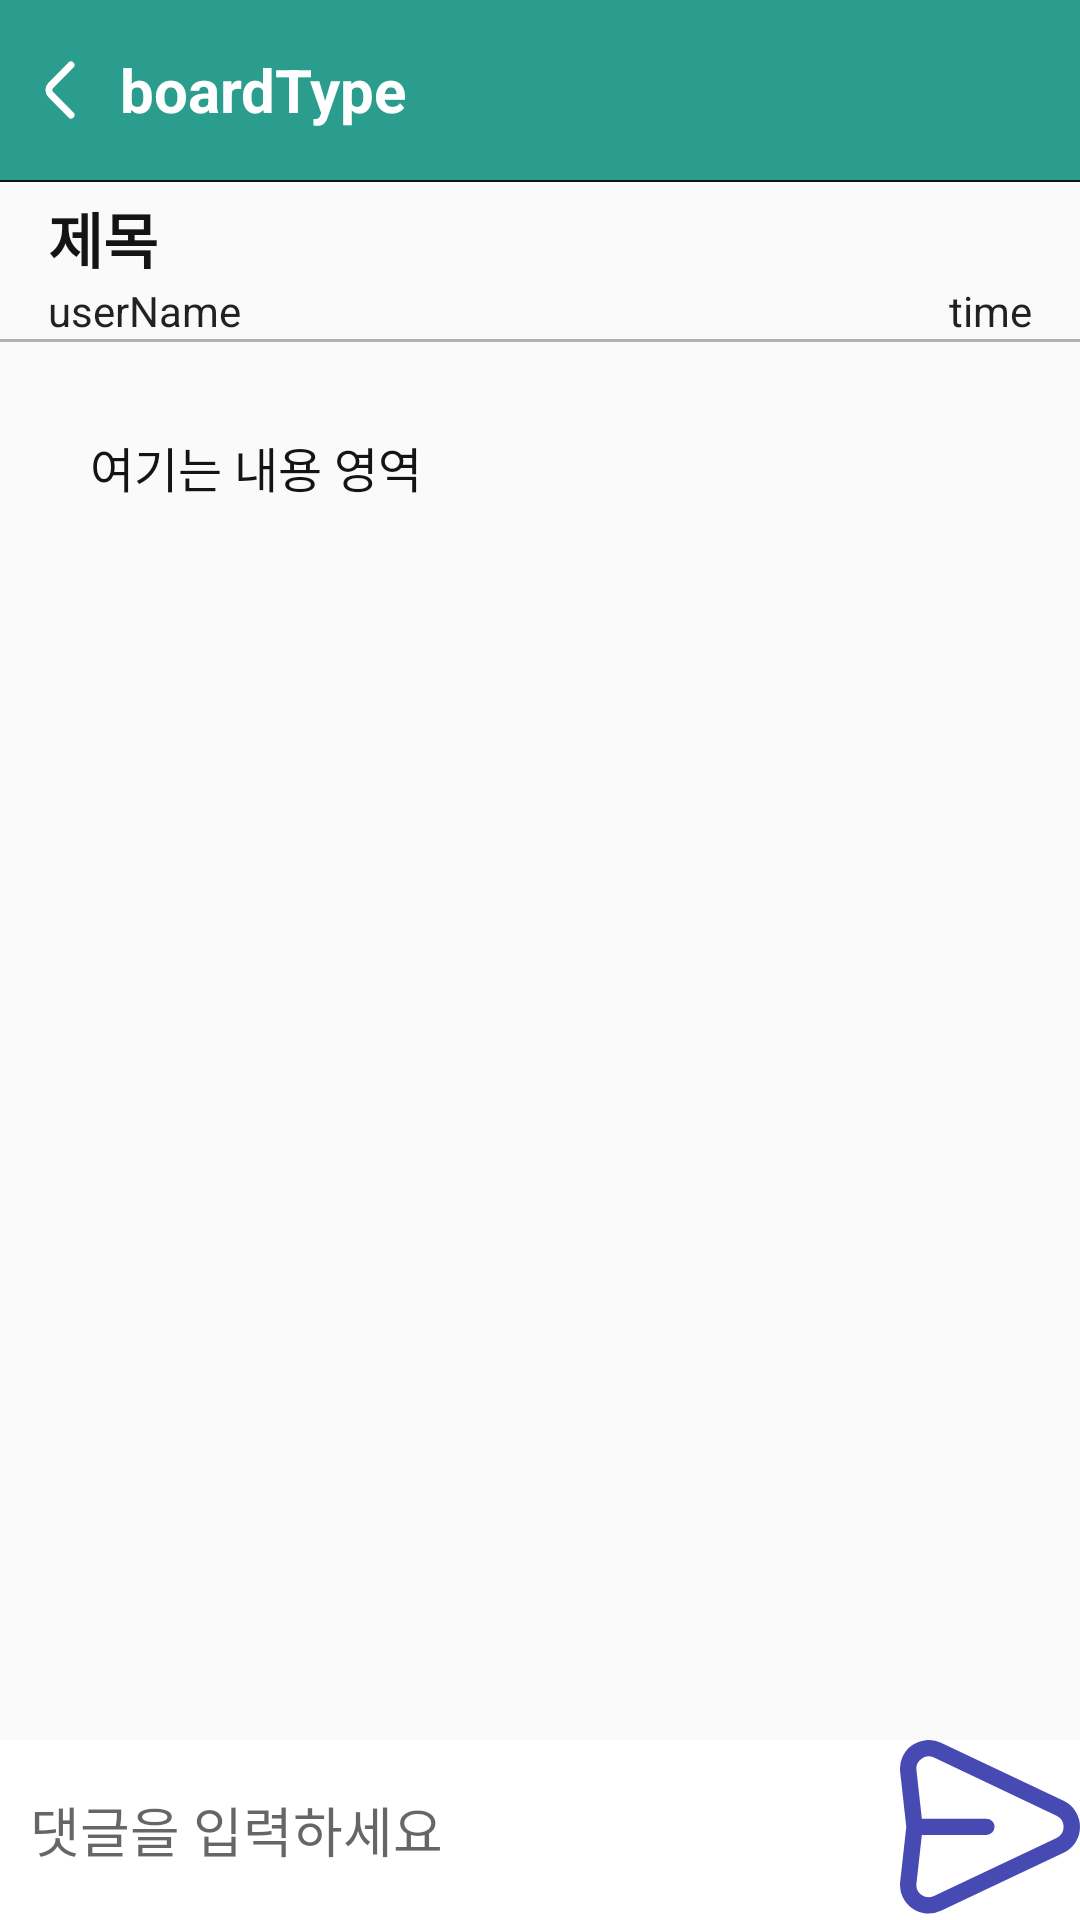

Icon click points for this 1080×1920 phone screenshot, format (x,y):
arrow: (60,90)
sending: (990,1827)
